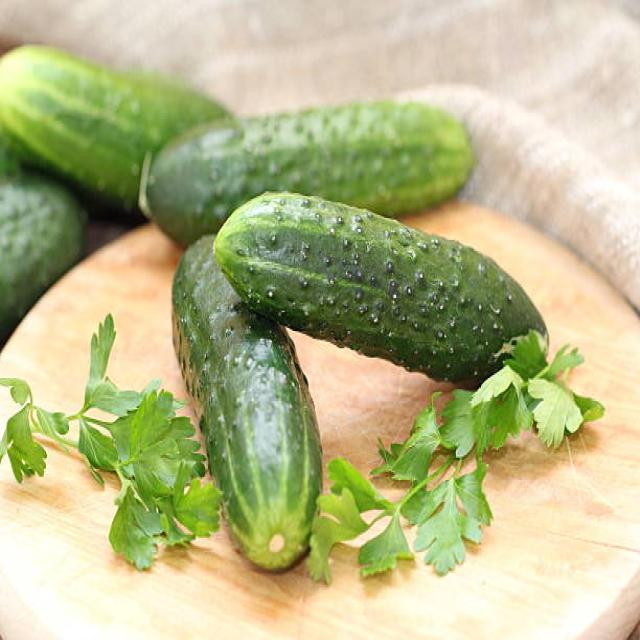cucumber: (213, 192, 551, 394), (145, 98, 476, 254), (171, 235, 323, 569)
